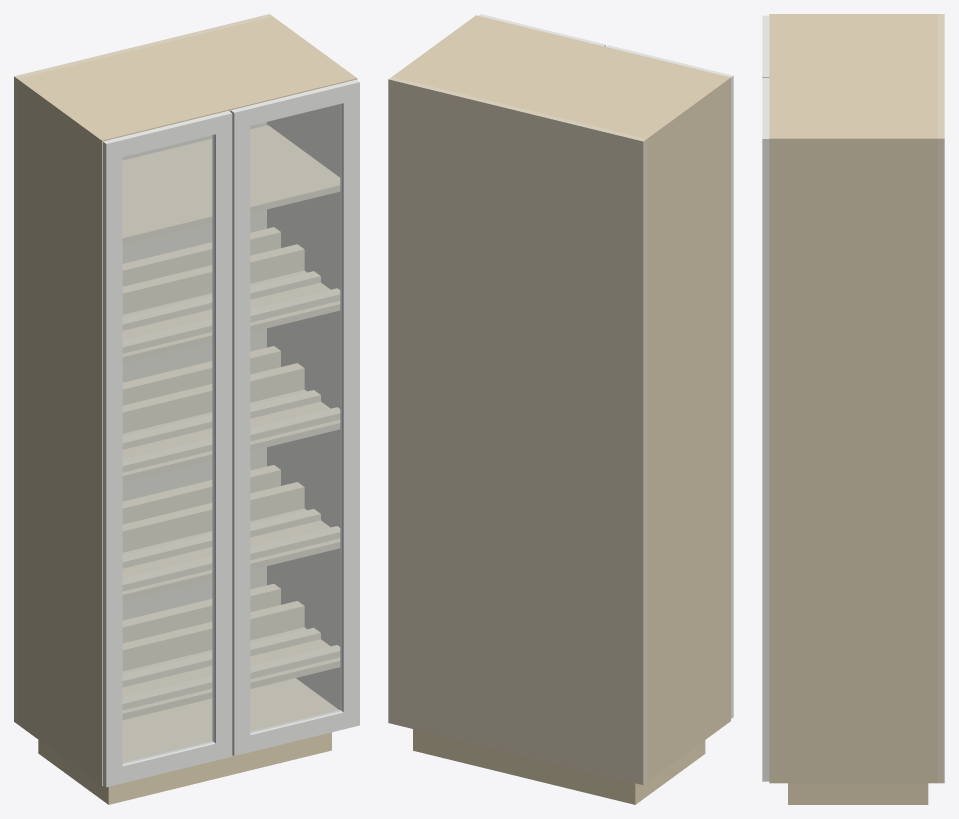
The model's file is spool-cabinet-shell.glb.
3 renders of one model, left to right at view 1: azimuth 30°, elevation 25°; view 2: azimuth 150°, elevation 25°; view 3: azimuth 270°, elevation 25°, orthographic.
Parts seen in each view (by area): view 1: Case/side left, Door Left/tempered glass 4 mm, Door Right/tempered glass 4 mm, Case/side right, Case/top, Door Left/stile latch side, Door Left/stile hinge side, Door Right/stile hinge side, Shelves/cubby shelf, Case/back, Door Right/stile latch side, Case/bottom (+26 smaller); view 2: Case/back, Case/side left, Case/top, Plinth/back 2x4, Door Left/stile hinge side, Plinth/cross 2x4 1; view 3: Case/side right, Case/top, Case/back, Door Right/stile hinge side, Plinth/cross 2x4 3, Case/side left, Door Right/rail top, Door Left/rail top.
Part boxes in pixels (box(x1,y1,x2,y2)): Case/side left: box(17, 77, 107, 785); Door Left/tempered glass 4 mm: box(123, 135, 214, 764); Door Right/tempered glass 4 mm: box(250, 104, 341, 733); Case/side right: box(267, 16, 357, 709); Case/top: box(24, 18, 351, 139); Door Left/stile latch side: box(212, 111, 232, 760); Door Left/stile hinge side: box(103, 137, 122, 787); Door Right/stile hinge side: box(340, 79, 359, 729); Shelves/cubby shelf: box(122, 125, 340, 244); Case/back: box(14, 14, 272, 723); Door Right/stile latch side: box(230, 106, 250, 755); Case/bottom: box(122, 678, 338, 762); Case/back: box(388, 77, 646, 785); Case/side left: box(641, 76, 730, 782); Case/top: box(398, 16, 724, 137); Plinth/back 2x4: box(413, 729, 642, 804); Door Left/stile hinge side: box(715, 72, 733, 718); Plinth/cross 2x4 1: box(642, 745, 698, 799); Case/side right: box(769, 135, 937, 783); Case/top: box(769, 17, 937, 135); Case/back: box(937, 14, 944, 783); Door Right/stile hinge side: box(762, 131, 769, 781); Plinth/cross 2x4 3: box(802, 783, 914, 804); Case/side left: box(769, 14, 937, 16); Door Right/rail top: box(762, 85, 769, 131); Door Left/rail top: box(762, 23, 769, 68).
Size of the model in its own units: 31.5 by 79.5 by 19.5.
